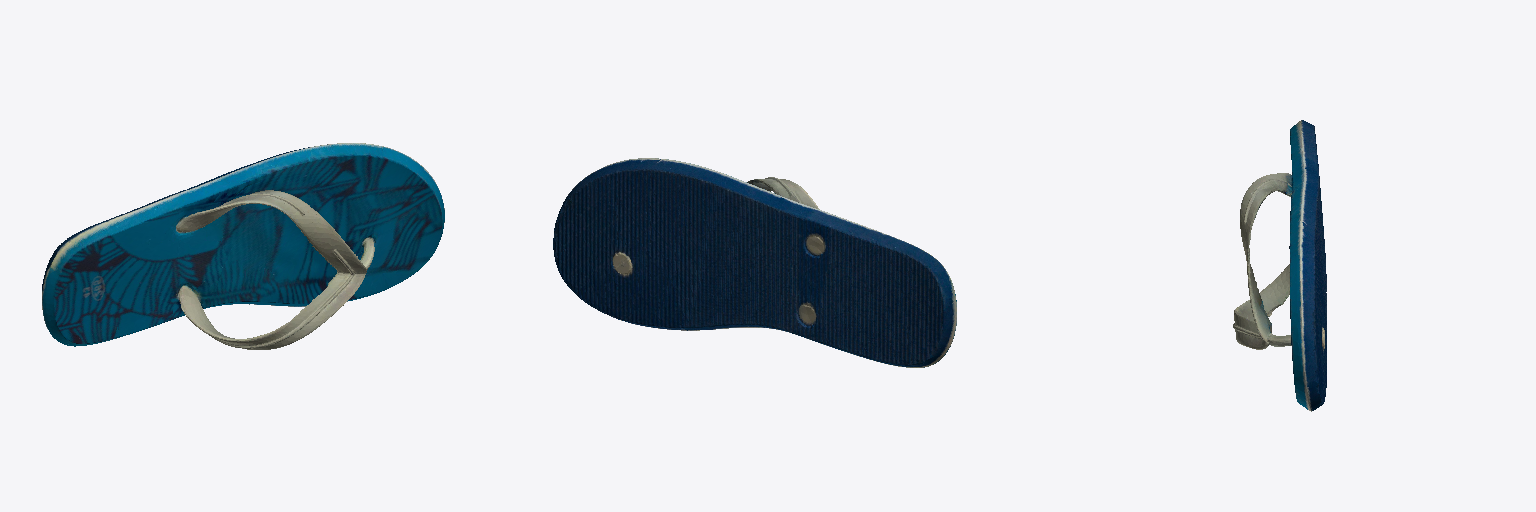
3 renders of one model, left to right at view 1: azimuth 30°, elevation 25°; view 2: azimuth 150°, elevation 25°; view 3: azimuth 270°, elevation 25°, orthographic.
Bounding box in the file's own units: 295 × 118 × 59.92.
Materials: 1 (1 with a texture image).